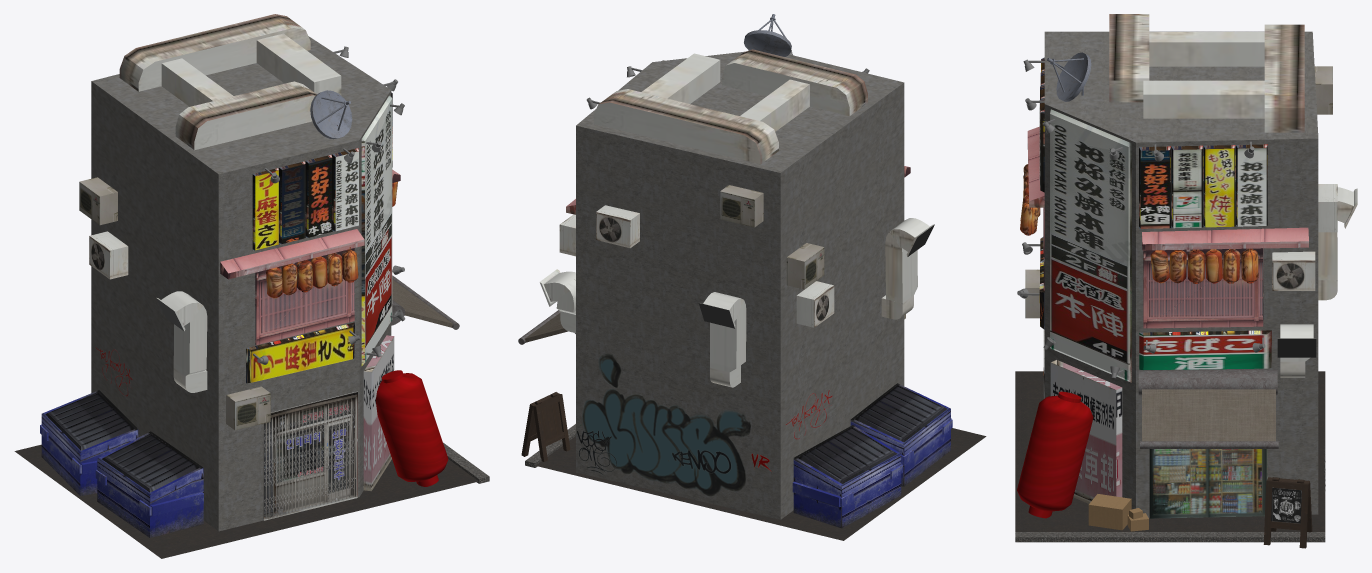
File: tp_jp_edificios.glb
3 views of the same model, side by side, from view 1: azimuth 30°, elevation 25°; view 2: azimuth 150°, elevation 25°; view 3: azimuth 270°, elevation 25° (orthographic). The views are drawn at different scales.
Visible parts, largest first — view 1: polySurface192, pCube44, polySurface209, pPlane1, pCube3, pCube45, polySurface205, polySurface196, polySurface4, polySurface133, polySurface70, polySurface194 (+14 smaller); view 2: polySurface192, polySurface191, polySurface205, pCube45, polySurface209, polySurface196, pPlane1, polySurface193, polySurface194, pCube46, polySurface7, polySurface195 (+9 smaller); view 3: polySurface192, pCube3, pCube12, pPlane1, pCube19, polySurface173, polySurface4, pCube2, polySurface134, pCube46, pCube45, polySurface195 (+24 smaller).
Part boxes in pixels (left/top/right/bottom): polySurface192: left=91, top=36, right=391, bottom=531; pCube44: left=263, top=391, right=357, bottom=520; polySurface209: left=95, top=431, right=203, bottom=537; pPlane1: left=14, top=444, right=478, bottom=558; pCube3: left=361, top=95, right=392, bottom=365; pCube45: left=119, top=14, right=310, bottom=91; polySurface205: left=40, top=390, right=138, bottom=496; polySurface196: left=175, top=81, right=316, bottom=150; polySurface4: left=375, top=370, right=448, bottom=486; polySurface133: left=255, top=248, right=354, bottom=345; polySurface70: left=246, top=322, right=354, bottom=383; polySurface194: left=156, top=291, right=207, bottom=392; polySurface192: left=576, top=51, right=904, bottom=519; polySurface191: left=582, top=353, right=751, bottom=496; polySurface205: left=792, top=425, right=902, bottom=528; pCube45: left=593, top=89, right=778, bottom=164; polySurface209: left=850, top=383, right=952, bottom=486; polySurface196: left=722, top=49, right=867, bottom=116; pPlane1: left=535, top=428, right=986, bottom=540; polySurface193: left=698, top=292, right=746, bottom=387; polySurface194: left=881, top=218, right=934, bottom=319; pCube46: left=641, top=53, right=720, bottom=103; polySurface7: left=521, top=392, right=570, bottom=461; polySurface195: left=740, top=79, right=809, bottom=131; polySurface192: left=1044, top=31, right=1318, bottom=518; pCube3: left=1050, top=109, right=1131, bottom=382; pCube12: left=1149, top=449, right=1267, bottom=518; pPlane1: left=1015, top=371, right=1325, bottom=531; pCube19: left=1142, top=389, right=1275, bottom=441; polySurface173: left=1143, top=248, right=1263, bottom=328; polySurface4: left=1017, top=391, right=1093, bottom=518; pCube2: left=1050, top=360, right=1122, bottom=503; polySurface134: left=1139, top=330, right=1271, bottom=369; pCube46: left=1143, top=80, right=1264, bottom=118; pCube45: left=1264, top=24, right=1304, bottom=132; polySurface195: left=1149, top=32, right=1264, bottom=66.
Bounding box in the file's own units: 12.98 × 15.15 × 10.23.
Materials: 27 (24 with a texture image).
